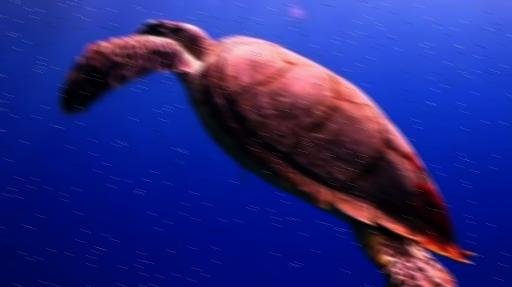Fish: (61, 20, 473, 286)
